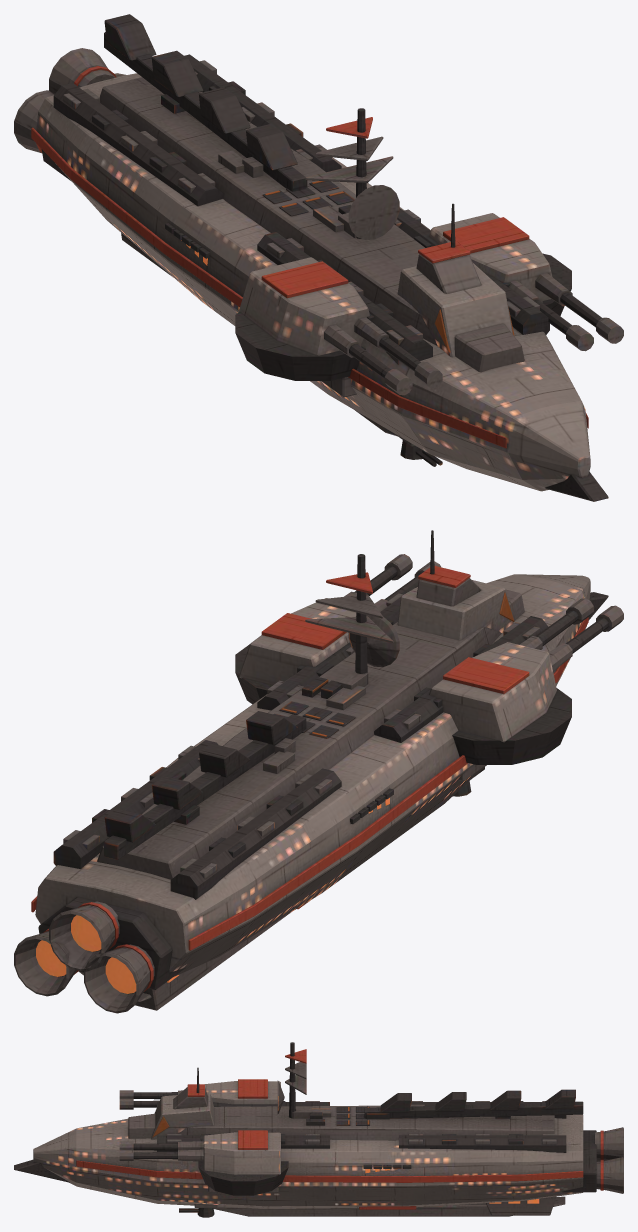
The model's file is vashkar_frigate.glb.
The picture shows the model from 3 angles, top to bottom: view 1: azimuth 30°, elevation 25°; view 2: azimuth 150°, elevation 25°; view 3: azimuth 270°, elevation 25°; orthographic projection. The views are drawn at different scales.
Visible parts, largest first — view 1: HULL, SYS_WPN2, SYS_BUS_A, SYS_WPN1, SYS_BRIDGE, SYS_BUS_F, SYS_SENSORS, SYS_DRIVE, SYS_MSL; view 2: HULL, SYS_WPN2, SYS_DRIVE, SYS_BUS_A, SYS_WPN1, SYS_BRIDGE, SYS_BUS_F, SYS_SENSORS, SYS_JUMP, SYS_MSL; view 3: HULL, SYS_WPN1, SYS_BUS_A, SYS_DRIVE, SYS_WPN2, SYS_BRIDGE, SYS_BUS_F, SYS_SENSORS, SYS_JUMP, SYS_MSL, SYS_REACTOR, SYS_PD.
Part boxes in pixels (box(x1,y1,x2,y2)): HULL: box(31, 14, 608, 501); SYS_WPN2: box(235, 257, 442, 397); SYS_BUS_A: box(53, 54, 341, 206); SYS_WPN1: box(429, 213, 623, 351); SYS_BRIDGE: box(397, 203, 514, 357); SYS_BUS_F: box(257, 208, 549, 364); SYS_SENSORS: box(305, 108, 399, 239); SYS_DRIVE: box(14, 48, 125, 180); SYS_MSL: box(262, 181, 354, 216); HULL: box(31, 574, 608, 1001); SYS_WPN2: box(429, 598, 623, 781); SYS_DRIVE: box(14, 897, 185, 1013); SYS_BUS_A: box(53, 740, 341, 899); SYS_WPN1: box(235, 554, 440, 704); SYS_BRIDGE: box(397, 530, 514, 640); SYS_BUS_F: box(257, 587, 548, 742); SYS_SENSORS: box(305, 554, 399, 673); SYS_JUMP: box(135, 961, 209, 1010); SYS_MSL: box(273, 701, 355, 738); HULL: box(14, 1089, 583, 1216); SYS_WPN1: box(119, 1130, 288, 1195); SYS_BUS_A: box(399, 1101, 566, 1152); SYS_DRIVE: box(562, 1127, 623, 1193); SYS_WPN2: box(119, 1079, 280, 1109); SYS_BRIDGE: box(151, 1067, 214, 1139); SYS_BUS_F: box(157, 1101, 329, 1151); SYS_SENSORS: box(277, 1042, 306, 1118); SYS_JUMP: box(486, 1196, 556, 1215); SYS_MSL: box(336, 1107, 369, 1125); SYS_REACTOR: box(359, 1165, 416, 1209); SYS_PD: box(179, 1203, 217, 1217).
Size of the model in its own units: 11 by 9.73 by 31.68.
Materials: 1 (1 with a texture image).
